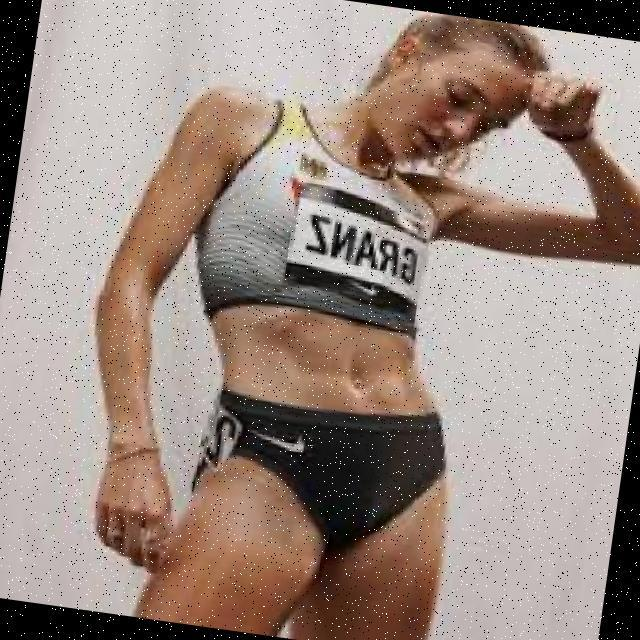Nike: (252, 421, 320, 453)
